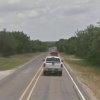Car: (40, 51, 80, 84)
